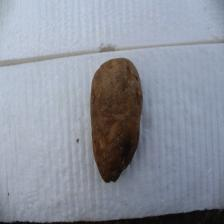Diseased-fungal potato: (90, 56, 144, 184)
